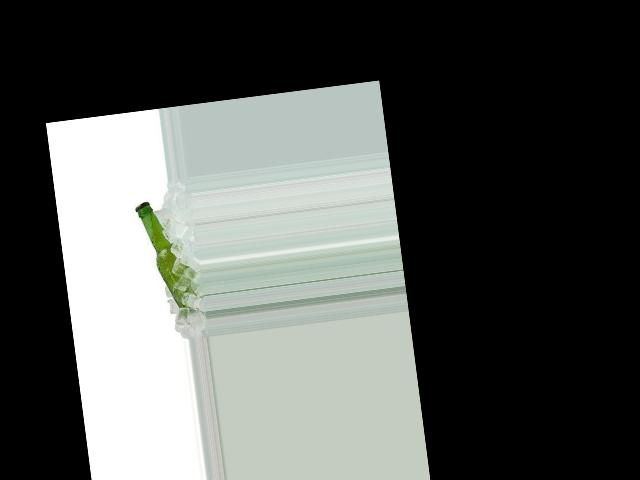beer: (135, 196, 191, 319)
